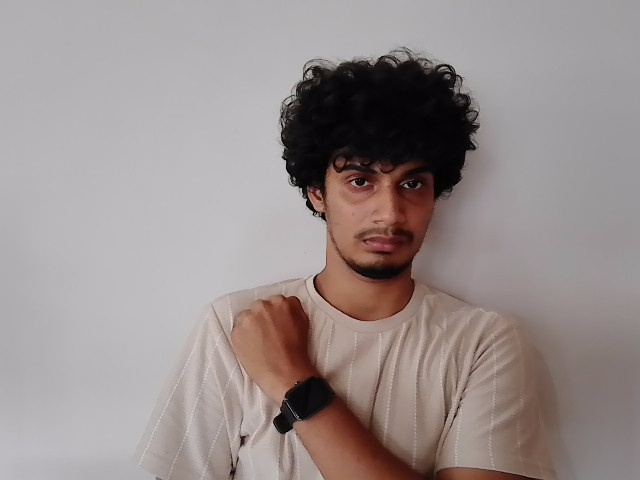sorry: (171, 281, 373, 464)
